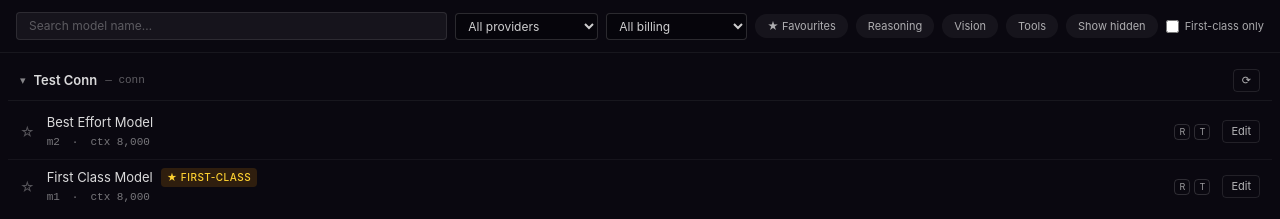
Test: ModelBrowser — first-class filter › hides best-effort rows when "First-class only" is enabled
This screenshot has width=1280, height=219.
Expected: the text "First Class Model" is shown, [47,168,153,187]
Expected: the text "Best Effort Model" is shown, [47,112,153,132]
Click the checkbox labelled "First-class only": (1172, 26) [1166,20,1179,32]
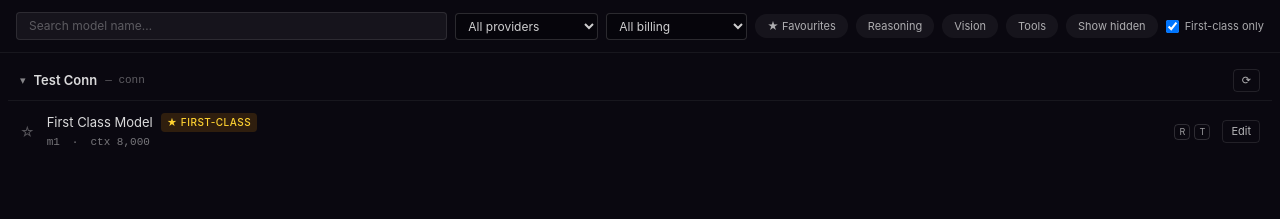
Expected: the text "First Class Model" is shown, [47,112,153,132]
Now the text "Best Effort Model" is gone
